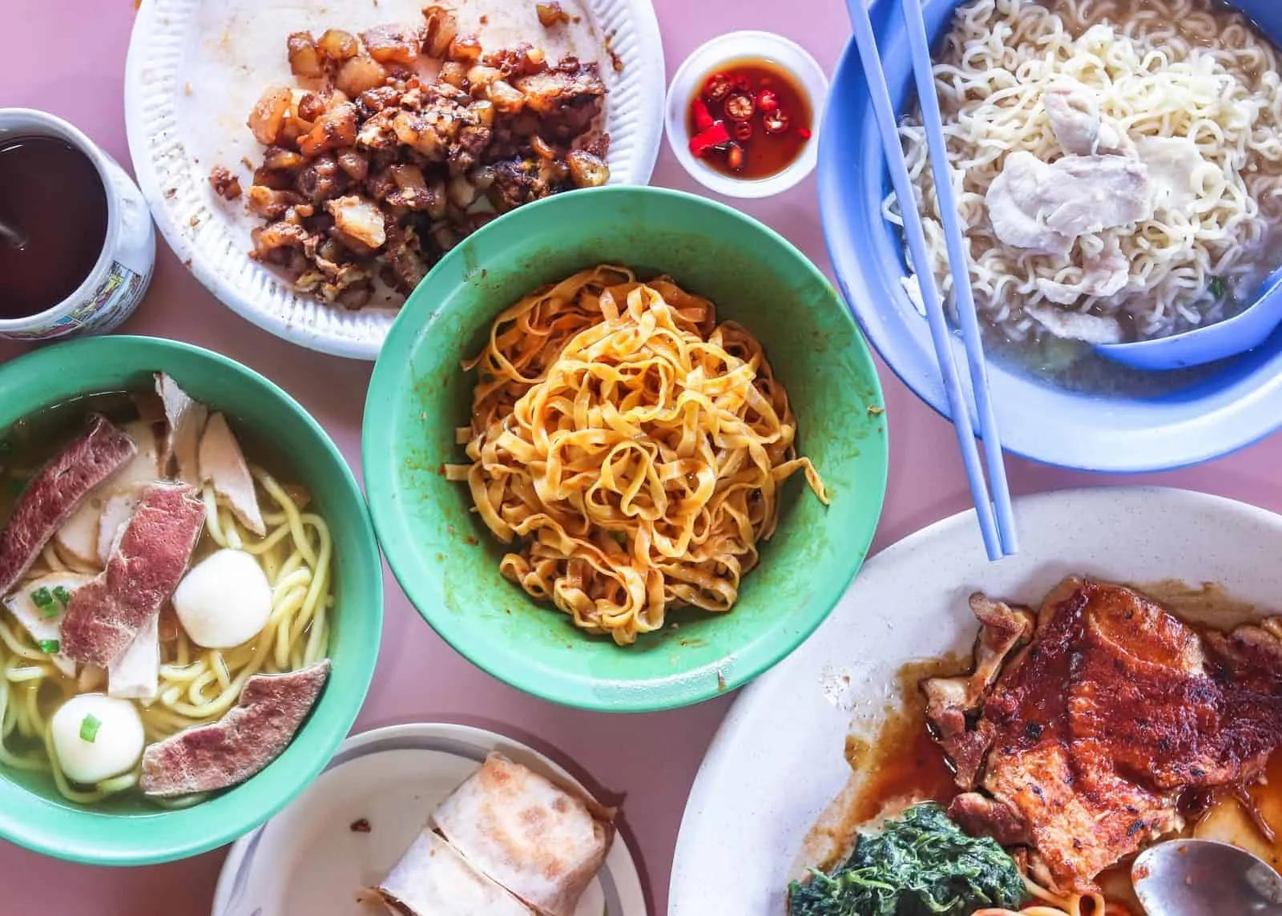Braised Crucian Carp: (358, 183, 843, 705), (823, 7, 1268, 479), (2, 333, 383, 857)
